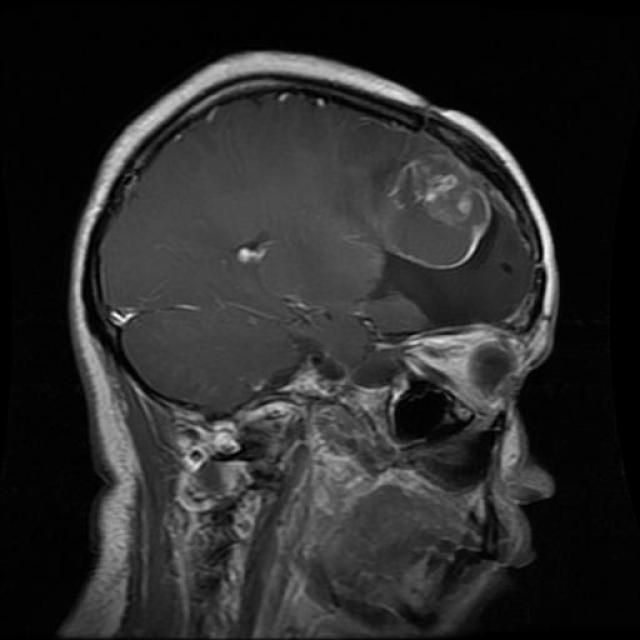Brain-Tumor: (375, 135, 510, 289)
eye: (391, 310, 536, 419)
